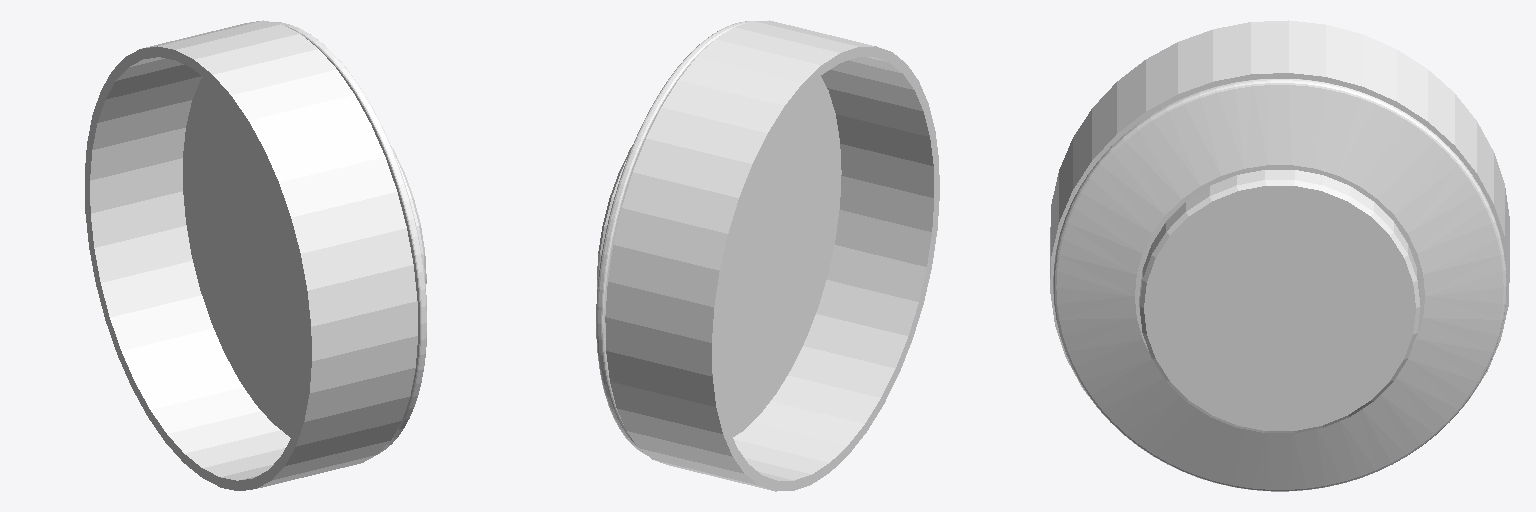
robot.urdf — wrist_roll_link:
<robot name="wrist_roll_link">
  <link name="wrist_roll_link">
    <inertial>
      <origin rpy="0 0 0" xyz="0.0095 0.0004 -0.0002" />
      <mass value="0.1354" />
      <inertia ixx="0.0001" ixy="0.0" ixz="0.0" iyy="0.0001" iyz="0.0" izz="0.0001" />
    </inertial>
    <visual>
      <origin rpy="0 0 0" xyz="0 0 0" />
      <geometry>
        <mesh filename="package://fetch_description/meshes/wrist_roll_link.obj" />
      </geometry>
      <material name="">
        <color rgba="1 1 1 1" />
      </material>
    </visual>
    <collision>
      <origin rpy="0 0 0" xyz="0 0 0" />
      <geometry>
        <mesh filename="package://fetch_description/meshes/wrist_roll_link_collision.STL" />
      </geometry>
    </collision>
  </link>
</robot>

--- Render facts (derived) ---
3 views of the same robot in one strip: view 1: azimuth 30°, elevation 25°; view 2: azimuth 150°, elevation 25°; view 3: azimuth 270°, elevation 25° (orthographic).
Model wrist_roll_link with 1 links and 0 joints (none), rooted at wrist_roll_link, posed all joints at 0.
Visible links, largest first — view 1: wrist_roll_link; view 2: wrist_roll_link; view 3: wrist_roll_link.
Link boxes in pixels (left/top/right/bottom): wrist_roll_link: left=85, top=20, right=426, bottom=490; wrist_roll_link: left=596, top=20, right=939, bottom=491; wrist_roll_link: left=1050, top=20, right=1509, bottom=491.
Bounding box of the posed robot: 0.0425 × 0.1039 × 0.1039 m (x, y, z).
1 mesh visuals loaded from 1 distinct referenced files (1 OBJ).